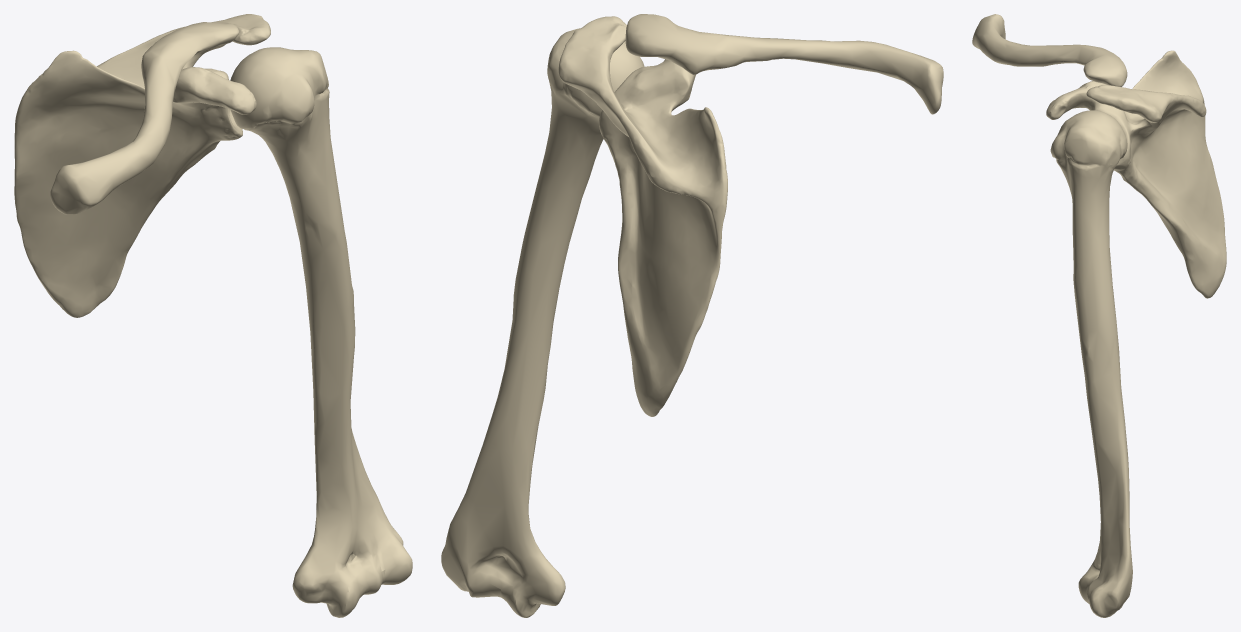
File: shoulderb.glb
3 views of the same model, side by side, from view 1: azimuth 30°, elevation 25°; view 2: azimuth 150°, elevation 25°; view 3: azimuth 270°, elevation 25° (orthographic). The views are drawn at different scales.
Visible parts, largest first — view 1: left humerus, left scapula, left clavicle; view 2: left scapula, left humerus, left clavicle; view 3: left humerus, left scapula, left clavicle.
Boxes of the visible parts, x1=… form: left humerus: x1=230, y1=47, x2=412, y2=617; left scapula: x1=14, y1=14, x2=270, y2=317; left clavicle: x1=50, y1=22, x2=239, y2=214; left scapula: x1=558, y1=16, x2=727, y2=416; left humerus: x1=441, y1=28, x2=644, y2=617; left clavicle: x1=625, y1=14, x2=943, y2=114; left humerus: x1=1050, y1=110, x2=1132, y2=617; left scapula: x1=1046, y1=50, x2=1226, y2=298; left clavicle: x1=972, y1=14, x2=1127, y2=86.
Size of the model in its own units: 0.2324 by 0.326 by 0.1522.
